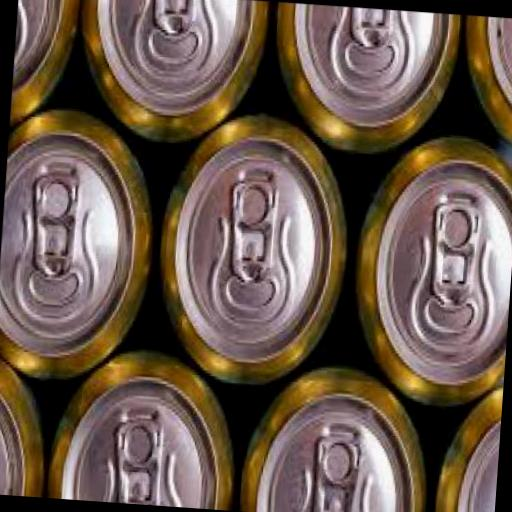metal: (145, 102, 357, 394), (342, 122, 512, 412), (0, 100, 163, 385), (41, 336, 244, 508), (256, 2, 463, 165), (234, 355, 436, 512), (65, 0, 266, 145), (428, 374, 502, 512), (10, 0, 83, 125), (450, 15, 512, 145), (0, 348, 49, 495)
